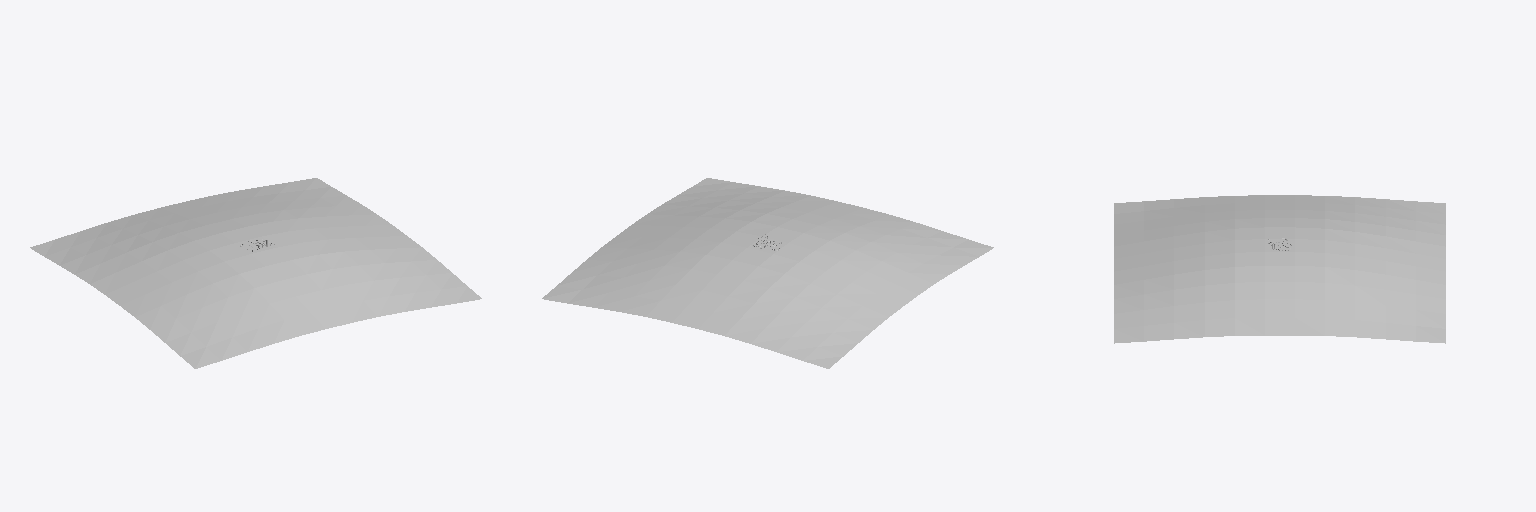
Rendered from Low Poly Road Pack.obj.
3 views of the same model, side by side, from view 1: azimuth 30°, elevation 25°; view 2: azimuth 150°, elevation 25°; view 3: azimuth 270°, elevation 25° (orthographic).
Visible parts, largest first — view 1: Plane_Plane.212; view 2: Plane_Plane.212; view 3: Plane_Plane.212.
Part boxes in pixels (bbox=[...]): Plane_Plane.212: bbox=[30, 178, 481, 368]; Plane_Plane.212: bbox=[542, 178, 993, 368]; Plane_Plane.212: bbox=[1114, 195, 1445, 343].
Bounding box in the file's own units: 6072 × 703 × 6072.